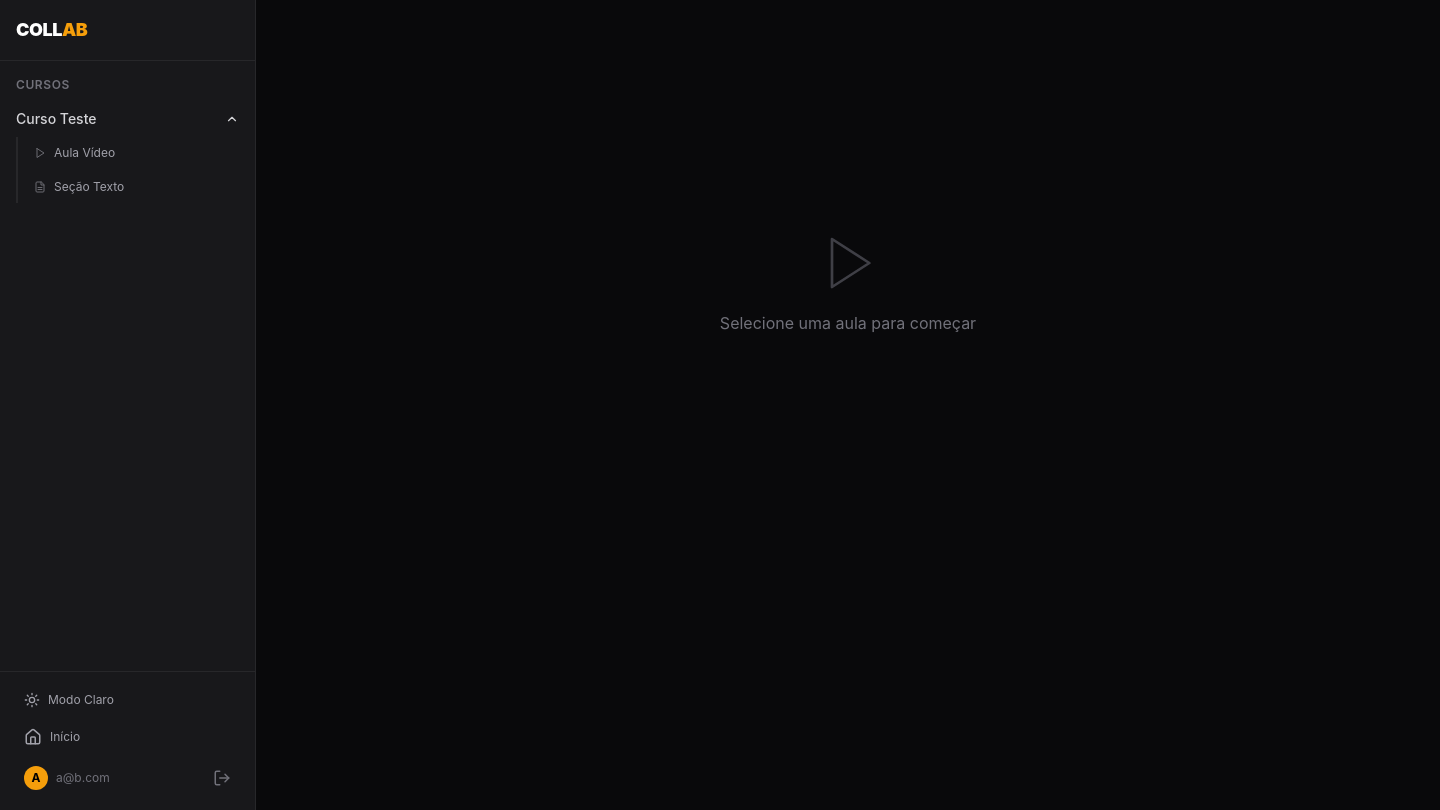
Test: ClassPage › shows error when getLesson fails
Expected: the text "Aula Vídeo" is shown, [54,145,115,161]
Click the button "Aula Vídeo" at coordinates (136, 153), box [26,137,247,169]
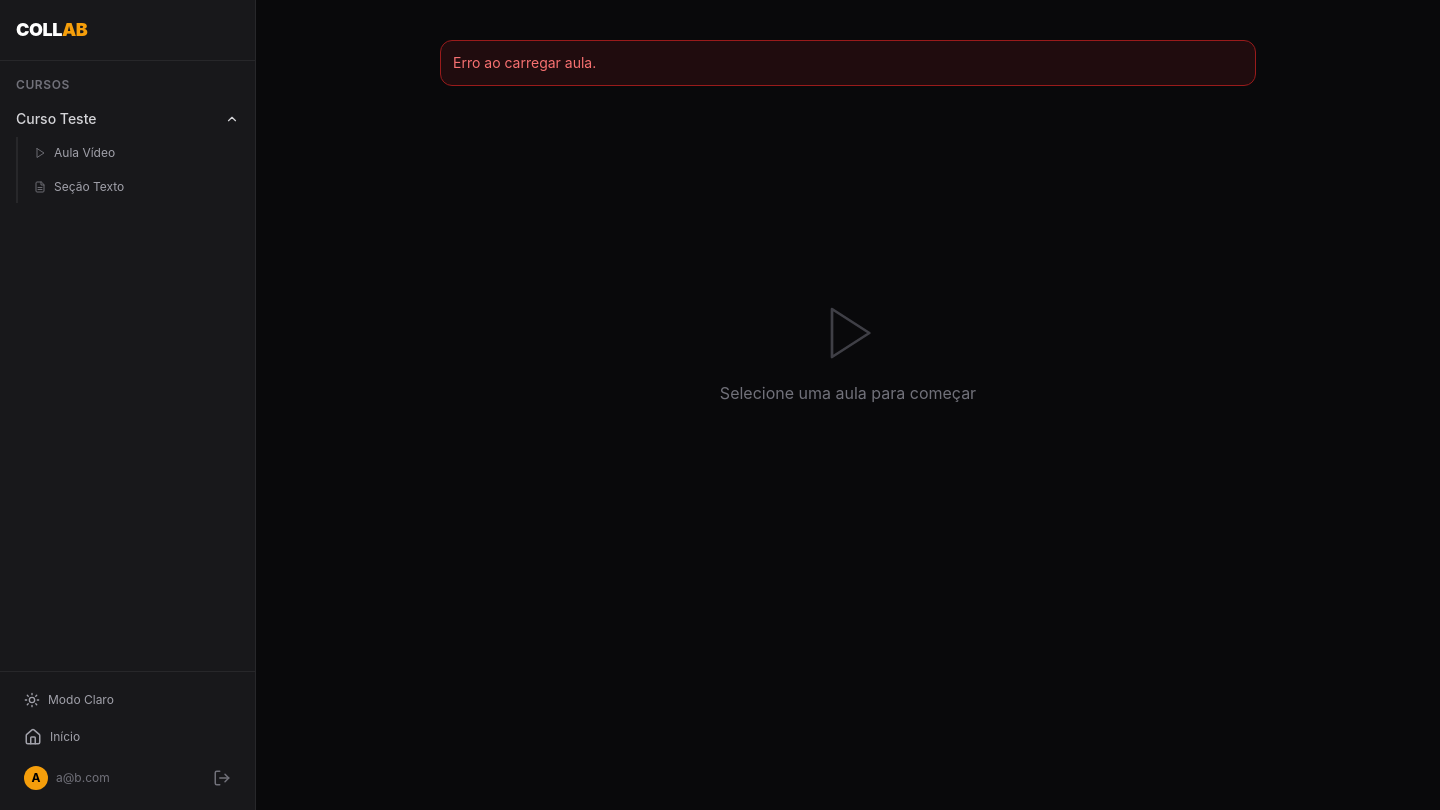
Expected: the text "Erro ao carregar aula." is shown, [440,40,1256,86]
